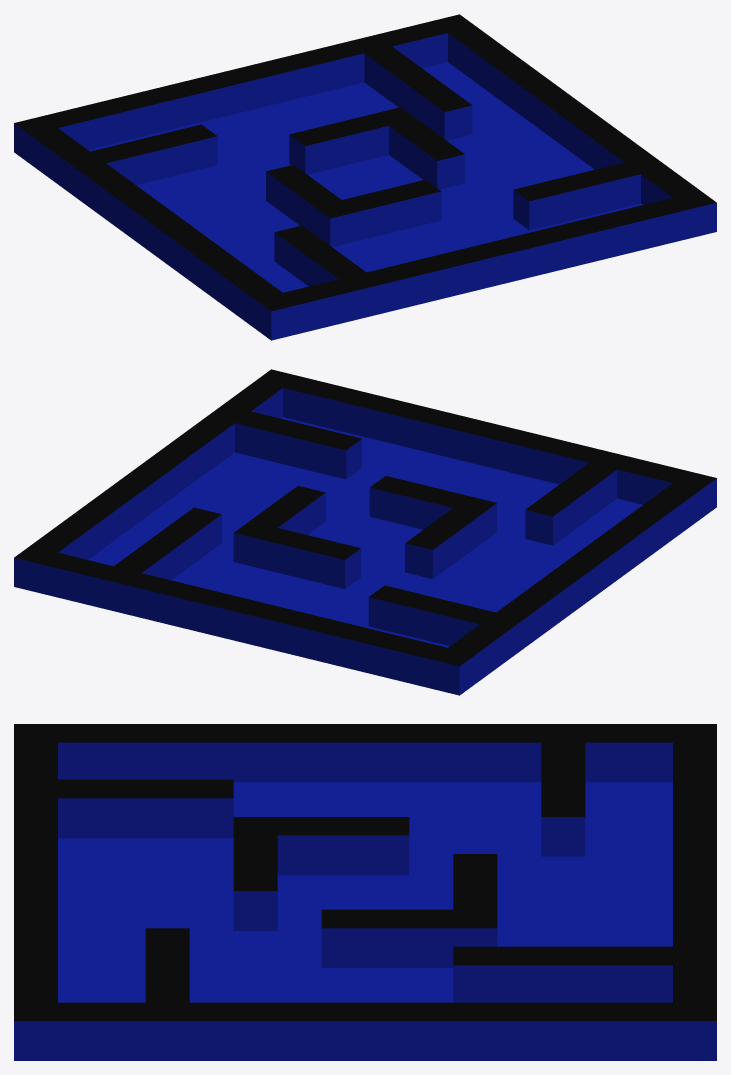
File: map2.obj
3 views of the same model, one above another, from view 1: azimuth 30°, elevation 25°; view 2: azimuth 150°, elevation 25°; view 3: azimuth 270°, elevation 25° (orthographic). The views are drawn at different scales.
Parts seen in each view (by area): view 1: Plane; view 2: Plane; view 3: Plane.
Boxes of the visible parts, x1=… form: Plane: x1=14, y1=14, x2=716, y2=340; Plane: x1=14, y1=369, x2=716, y2=695; Plane: x1=14, y1=724, x2=716, y2=1060.
Size of the model in its own units: 15.97 by 1 by 15.97.
